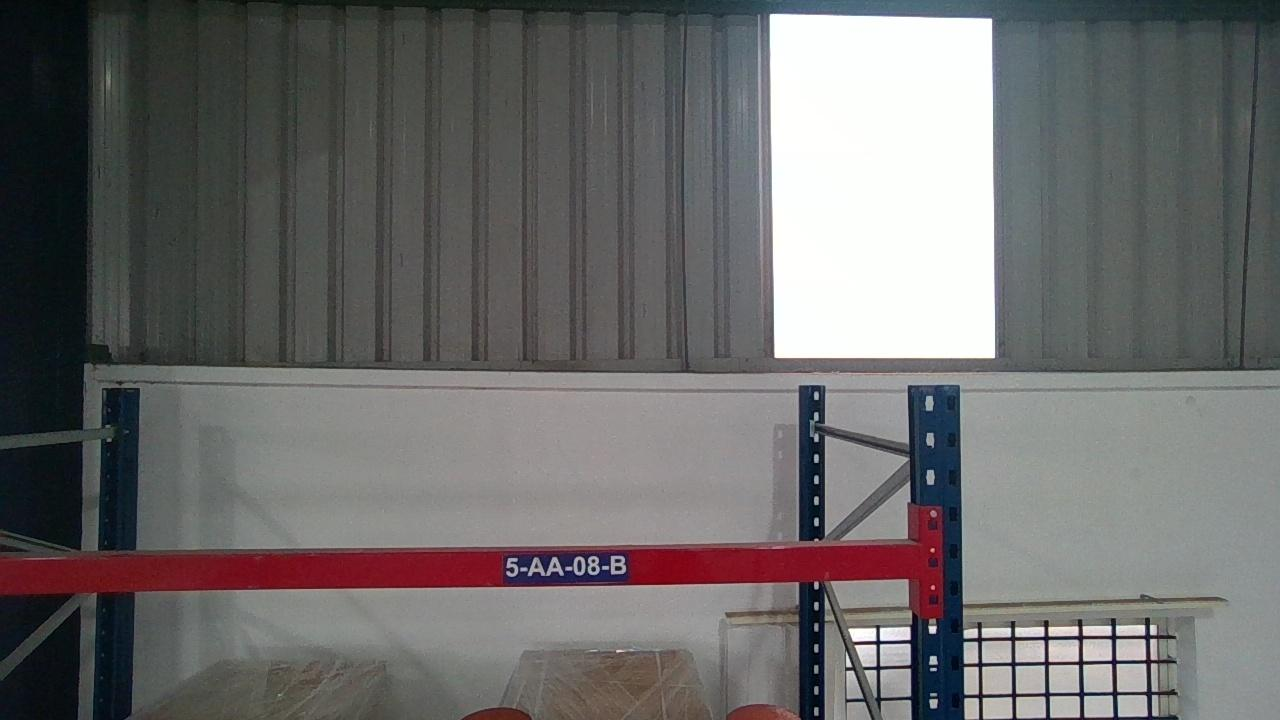h_rack: (2, 546, 922, 589)
